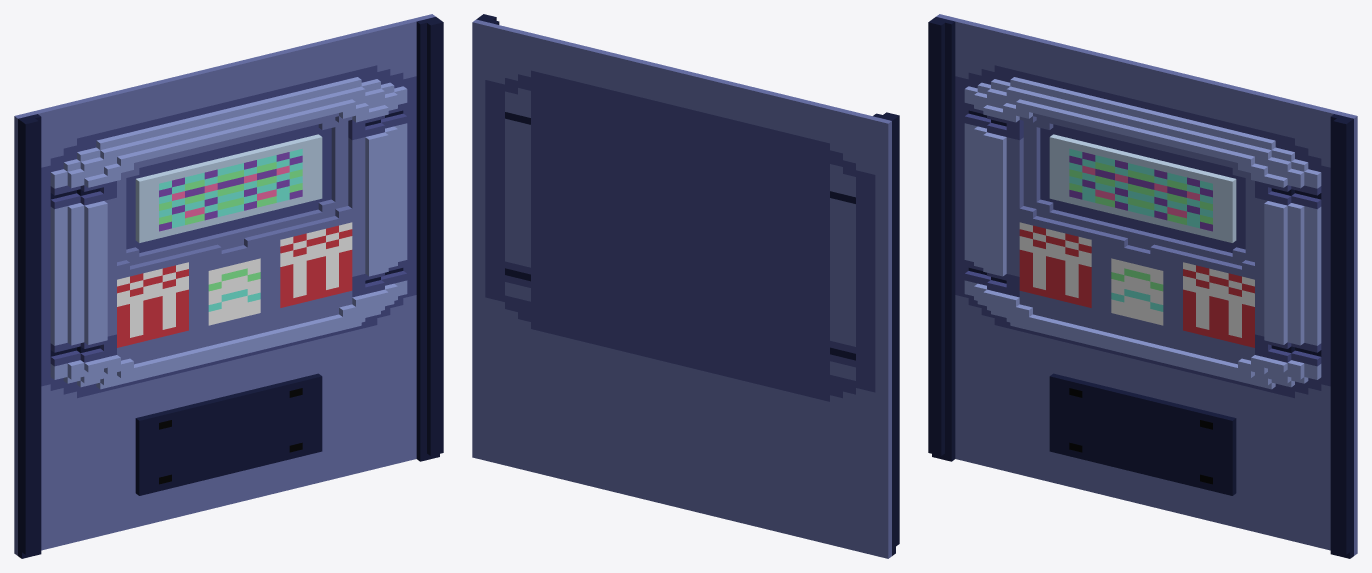
The model's file is pared parche.obj.
3 renders of one model, left to right at view 1: azimuth 30°, elevation 25°; view 2: azimuth 150°, elevation 25°; view 3: azimuth 330°, elevation 25°, orthographic.
Bounding box in the file's own units: 6.4 × 6.4 × 0.4.
1 material, 1 textured.
